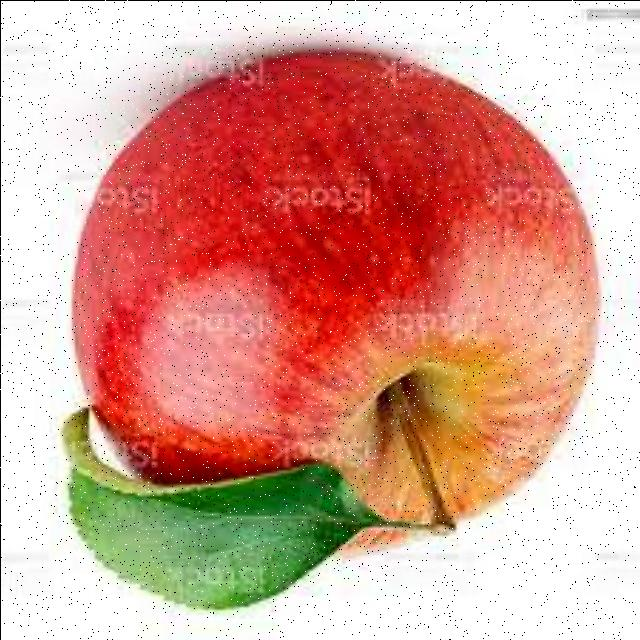HEALTHY: (42, 24, 626, 583)
